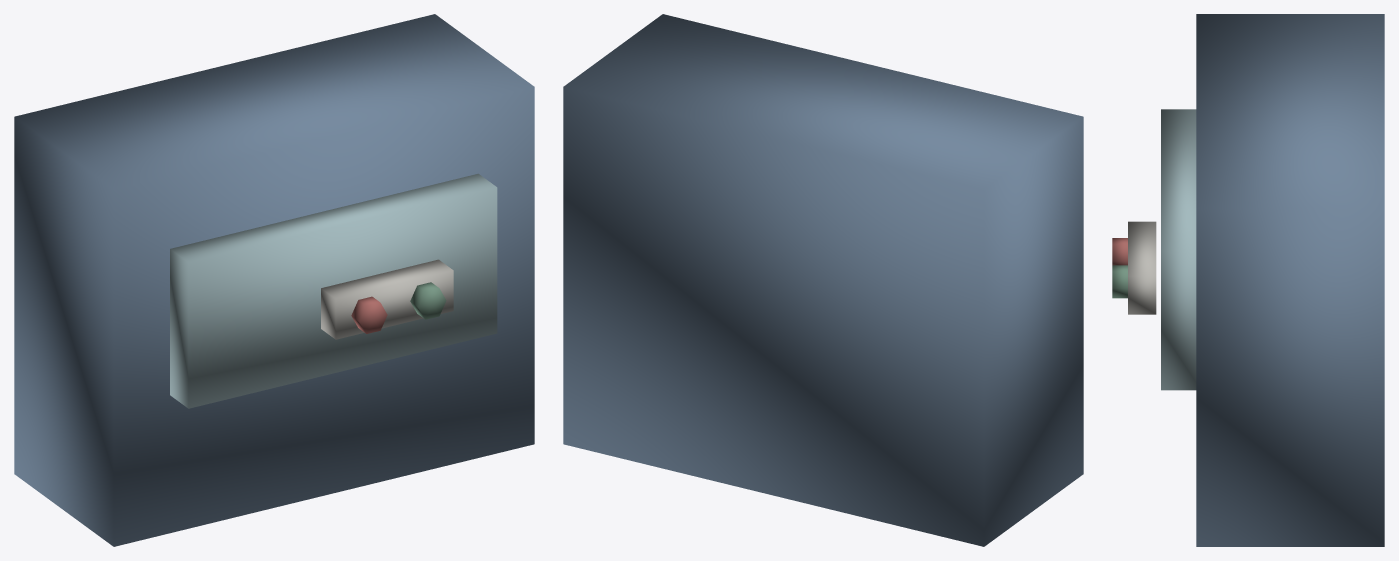
Rendered from price_checker__compact.glb.
3 renders of one model, left to right at view 1: azimuth 30°, elevation 25°; view 2: azimuth 150°, elevation 25°; view 3: azimuth 270°, elevation 25°, orthographic. The views are drawn at different scales.
Visible parts, largest first — view 1: world; view 2: world; view 3: world.
Boxes of the visible parts, left/top/right/bottom form: world: left=14, top=14, right=534, bottom=546; world: left=563, top=14, right=1083, bottom=546; world: left=1112, top=14, right=1384, bottom=546.
Bounding box in the file's own units: 0.252 × 0.2046 × 0.1492.
